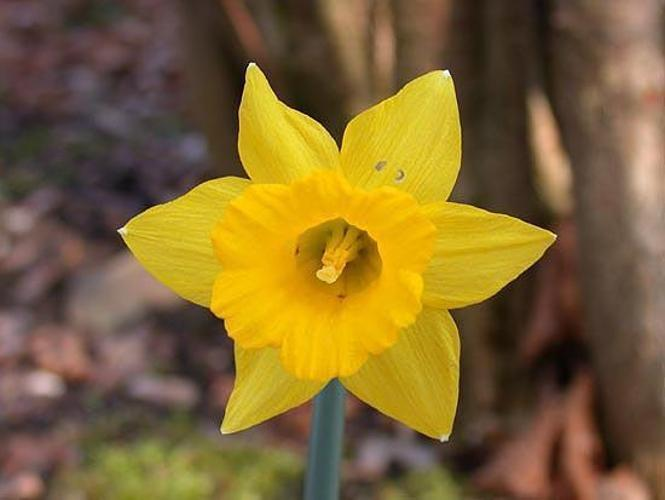flower1: (116, 61, 558, 445)
